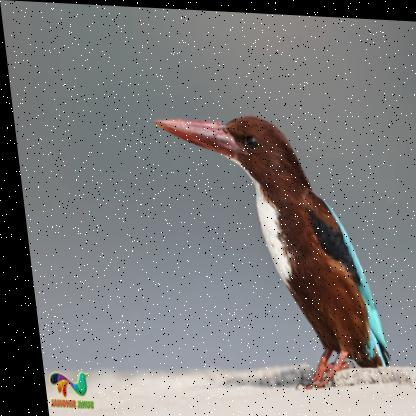Burung: (151, 108, 386, 388)
